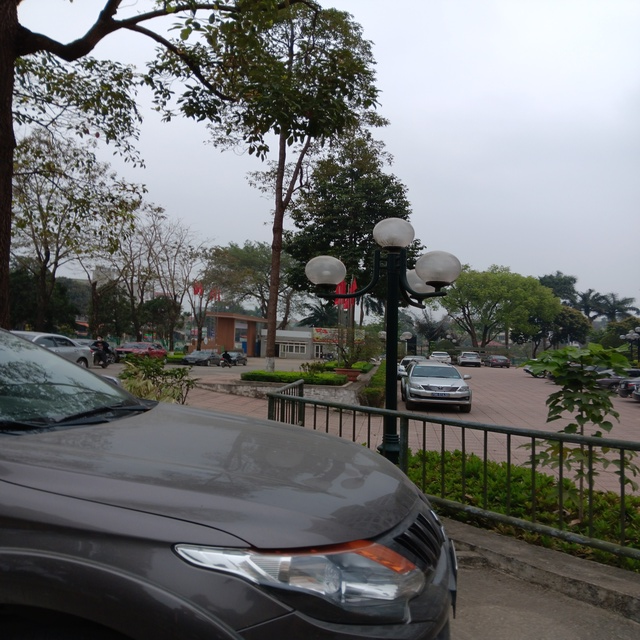cotden: (307, 215, 465, 454)
